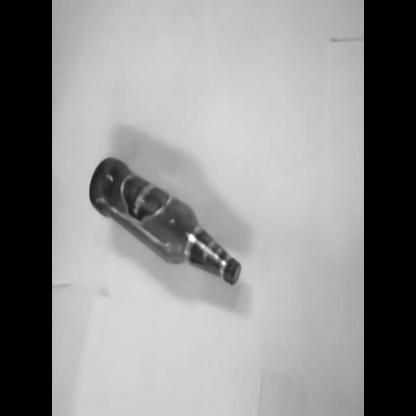Can: (86, 156, 242, 284)
